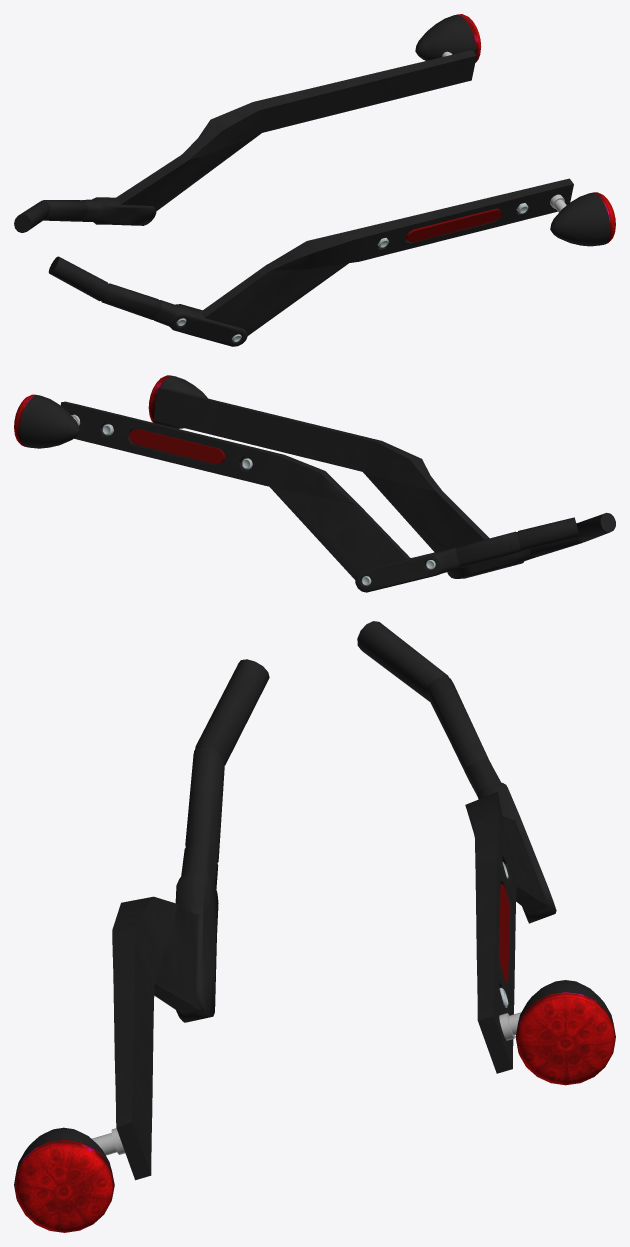
File: frecce_stop_breakout.glb
3 renders of one model, top to bottom at view 1: azimuth 30°, elevation 25°; view 2: azimuth 150°, elevation 25°; view 3: azimuth 270°, elevation 25°, orthographic. The views are drawn at different scales.
Visible parts, largest first — view 1: ricambio; view 2: ricambio; view 3: ricambio.
Boxes of the visible parts, <box> form: ricambio: <box>14,14,615,346</box>; ricambio: <box>14,375,615,592</box>; ricambio: <box>14,621,615,1232</box>.
Size of the model in its own units: 0.7651 by 0.2539 by 0.424.
Materials: 4 (3 with a texture image).
